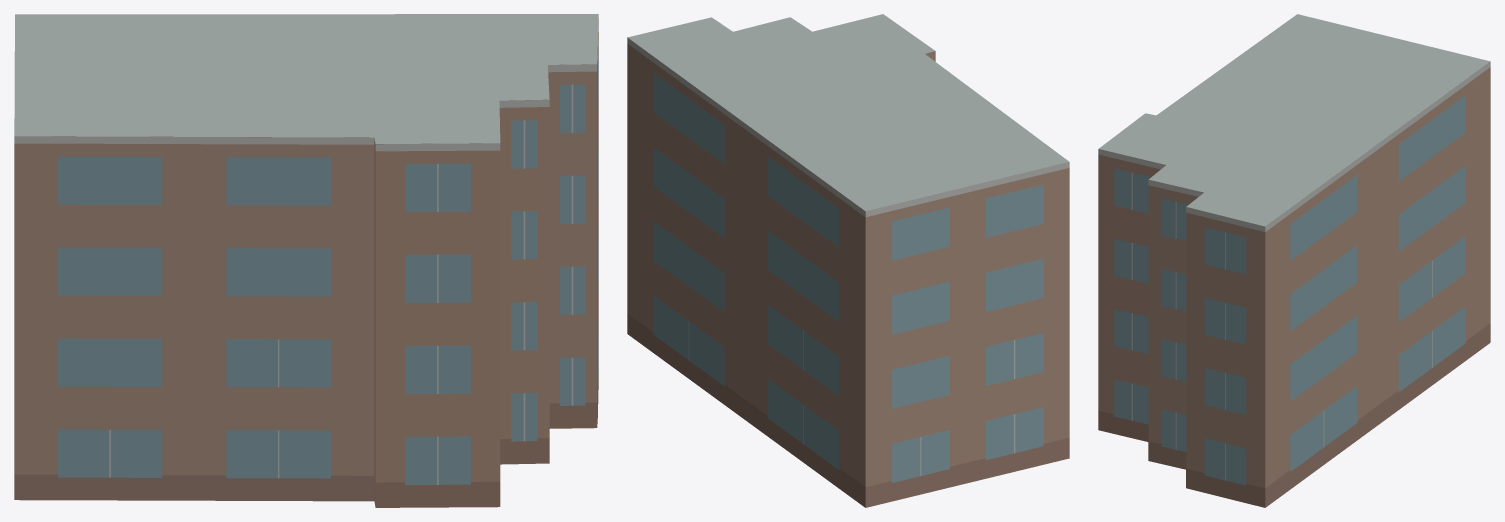
File: survey-upis-33000419.glb
3 views of the same model, side by side, from view 1: azimuth 30°, elevation 25°; view 2: azimuth 150°, elevation 25°; view 3: azimuth 270°, elevation 25° (orthographic). The views are drawn at different scales.
Parts seen in each view (by area): view 1: survey-upis-33000419.tmp; view 2: survey-upis-33000419.tmp; view 3: survey-upis-33000419.tmp.
Part boxes in pixels (<box>): survey-upis-33000419.tmp: <box>14,14,598,507</box>; survey-upis-33000419.tmp: <box>627,14,1069,507</box>; survey-upis-33000419.tmp: <box>1098,14,1490,507</box>.
Size of the model in its own units: 19.78 by 12.2 by 15.42.
